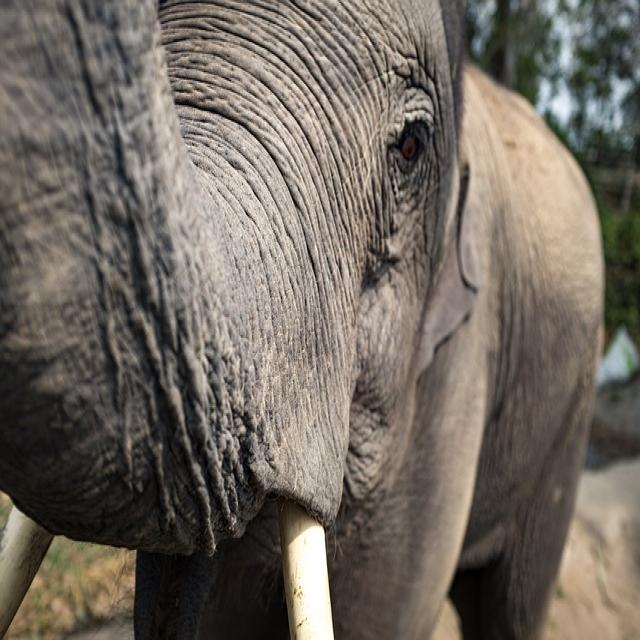elephant: (0, 4, 602, 638)
